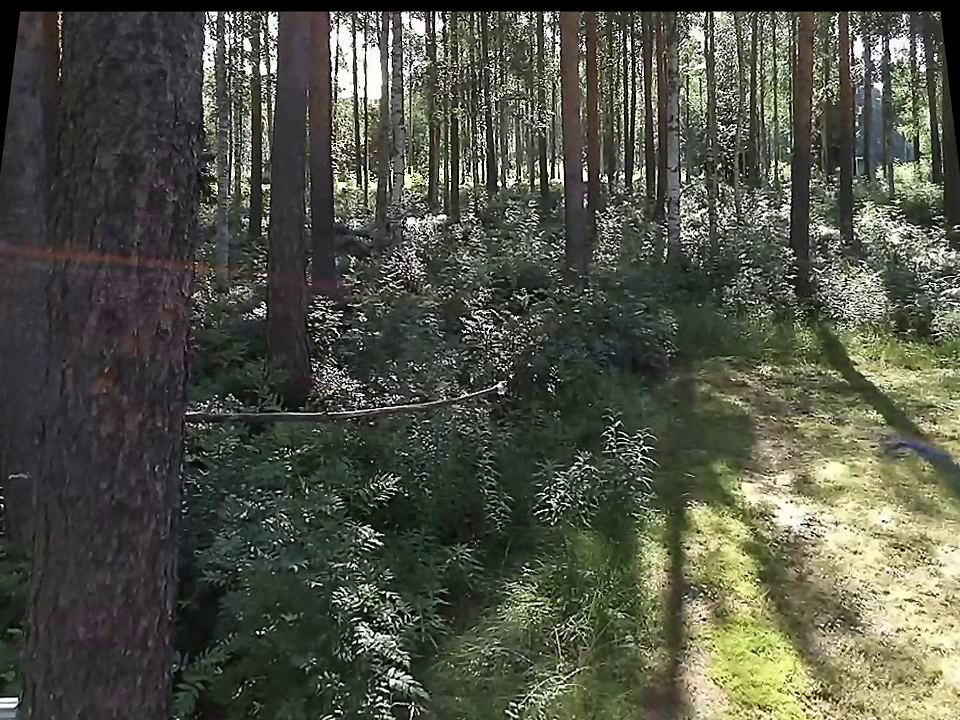branch: (192, 386, 485, 426)
